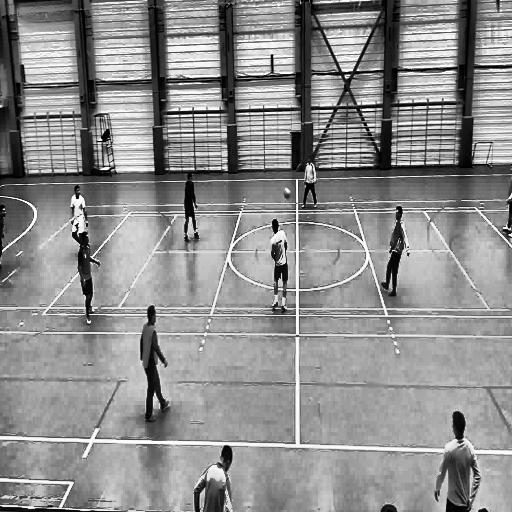ball: (282, 185, 291, 202)
player: (434, 403, 484, 512), (140, 303, 171, 430), (193, 439, 236, 512), (380, 206, 411, 300), (77, 230, 101, 331), (269, 218, 289, 320), (182, 170, 200, 248), (70, 184, 87, 250), (299, 156, 319, 212), (501, 160, 512, 238), (0, 202, 8, 282)
